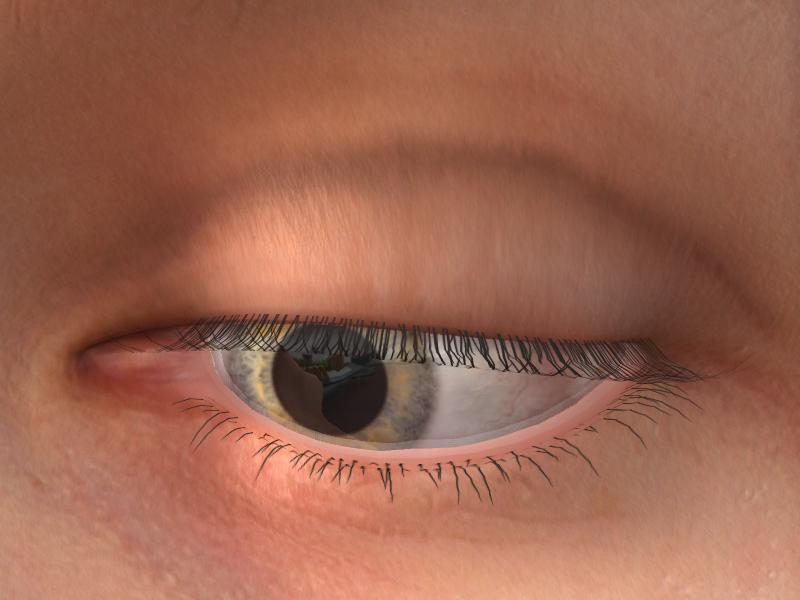eye: (223, 318, 437, 452)
